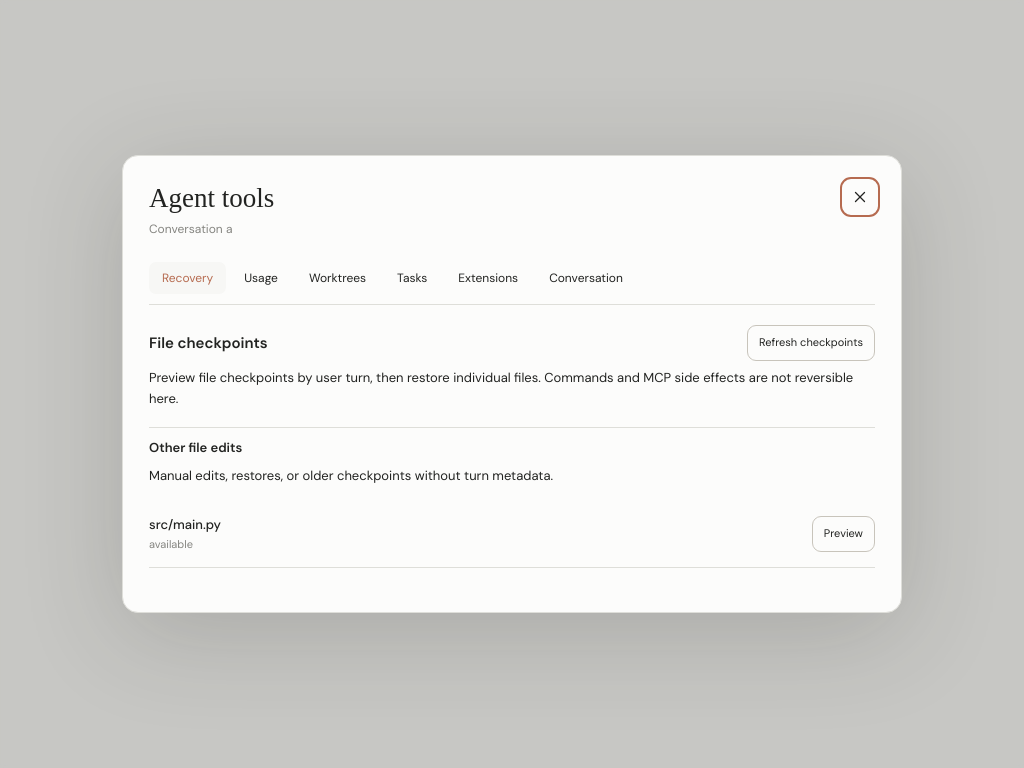
Test: keeps an unrestorable checkpoint disabled and displays the server explanation
The image size is (1024, 768).
Click the button with aria-label "Preview checkpoint src/main.py": (843, 534) [812,516,875,552]
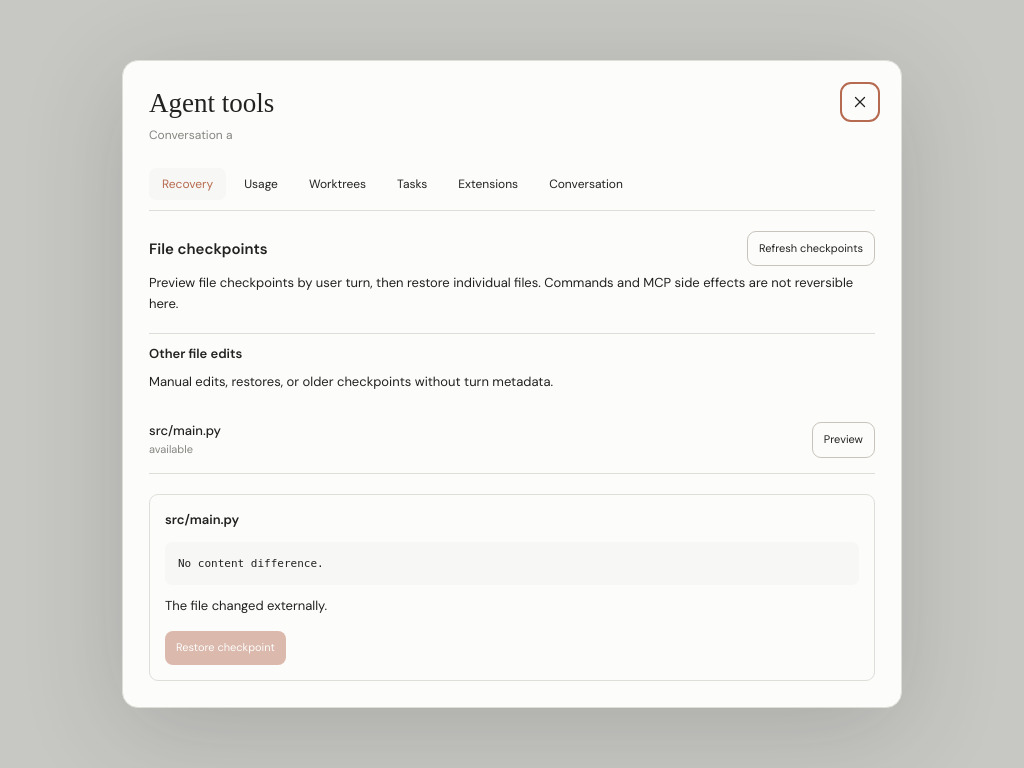
Expected: the button "Restore checkpoint" is disabled, [165,631,286,665]
Expected: the message reads "The file changed externally.", [165,597,327,614]
